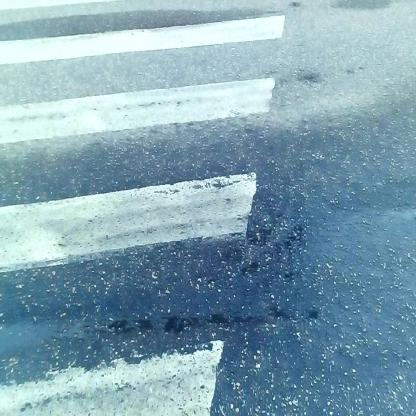crosswalk: (1, 14, 299, 416)
